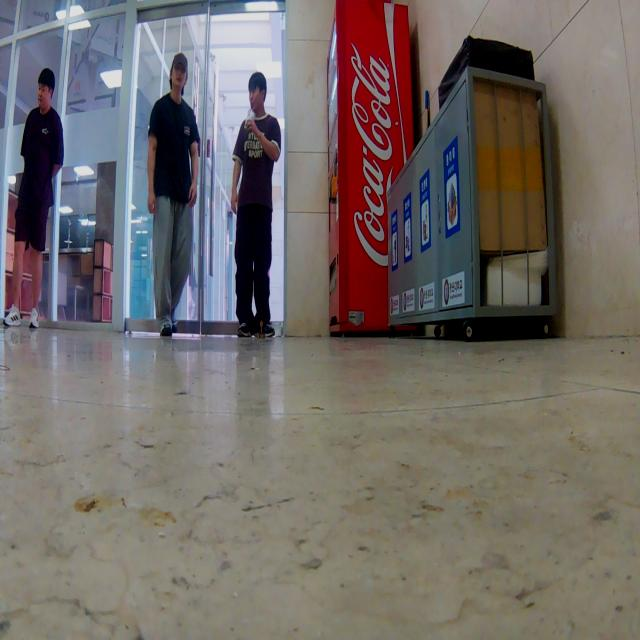target: (258, 320, 265, 342)
